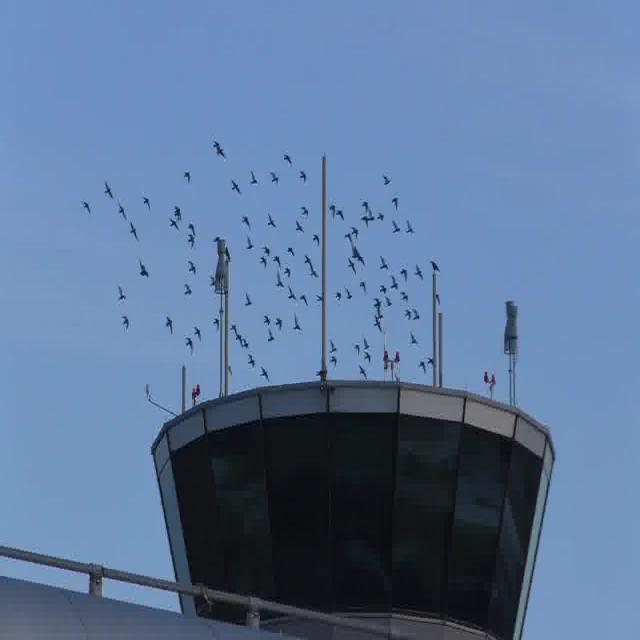bird: (286, 246, 301, 270), (166, 215, 182, 237), (273, 264, 284, 289), (139, 262, 152, 283), (326, 331, 338, 353), (302, 198, 311, 224), (184, 334, 196, 353), (143, 196, 153, 218), (343, 229, 355, 247), (344, 283, 354, 303), (388, 217, 399, 235), (84, 196, 93, 217), (287, 279, 296, 300), (427, 352, 436, 372), (345, 260, 356, 276), (177, 202, 184, 226), (412, 303, 420, 324), (105, 181, 114, 199), (269, 210, 278, 228), (214, 138, 224, 154), (270, 170, 280, 186), (354, 338, 362, 358), (335, 288, 344, 305), (363, 212, 371, 230), (403, 310, 412, 326), (276, 314, 284, 332), (358, 196, 368, 210), (361, 276, 368, 296), (182, 282, 192, 296), (246, 290, 253, 310), (186, 169, 194, 186), (131, 221, 138, 240), (414, 261, 421, 280), (380, 255, 388, 271), (310, 266, 318, 282), (121, 312, 129, 328), (118, 206, 127, 220), (405, 218, 412, 236), (243, 236, 252, 250), (294, 217, 302, 232), (189, 257, 196, 274), (303, 252, 310, 268), (399, 262, 406, 278), (118, 286, 126, 300), (263, 308, 271, 322), (193, 326, 201, 340), (419, 358, 427, 372), (261, 366, 269, 380), (248, 170, 257, 182), (393, 194, 400, 209), (389, 273, 396, 288), (231, 177, 239, 190), (428, 258, 436, 271), (329, 199, 336, 213), (166, 316, 173, 330), (363, 334, 370, 348), (352, 222, 358, 238), (314, 230, 320, 246), (259, 253, 267, 265), (293, 312, 299, 327), (412, 332, 417, 350), (384, 300, 392, 310), (379, 282, 385, 295), (300, 169, 307, 180), (401, 289, 406, 304), (284, 152, 290, 164), (383, 174, 389, 186), (189, 221, 195, 233), (229, 324, 236, 334), (246, 360, 254, 368), (360, 364, 366, 374), (300, 291, 305, 302), (244, 336, 249, 346)
